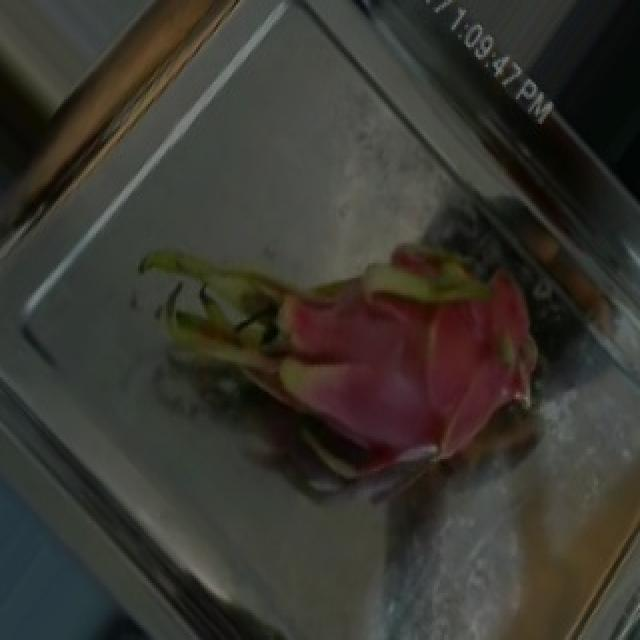fruit: (174, 129, 624, 556)
